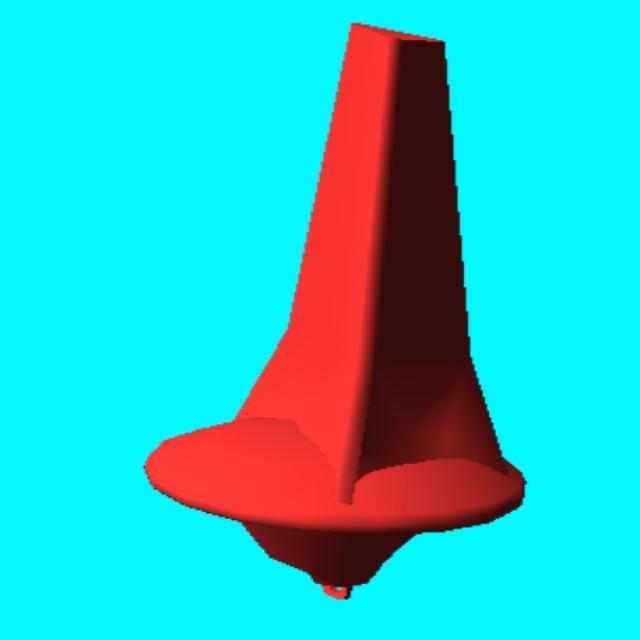RedBuoy: (145, 24, 524, 597)
